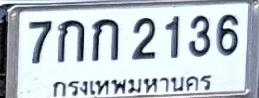1: (164, 15, 180, 58)
2: (132, 16, 156, 59)
3: (188, 15, 210, 56)
6: (216, 14, 238, 56)
7: (28, 20, 52, 64)
A01: (56, 19, 84, 63), (91, 18, 119, 61)
BKK: (49, 71, 217, 98)
